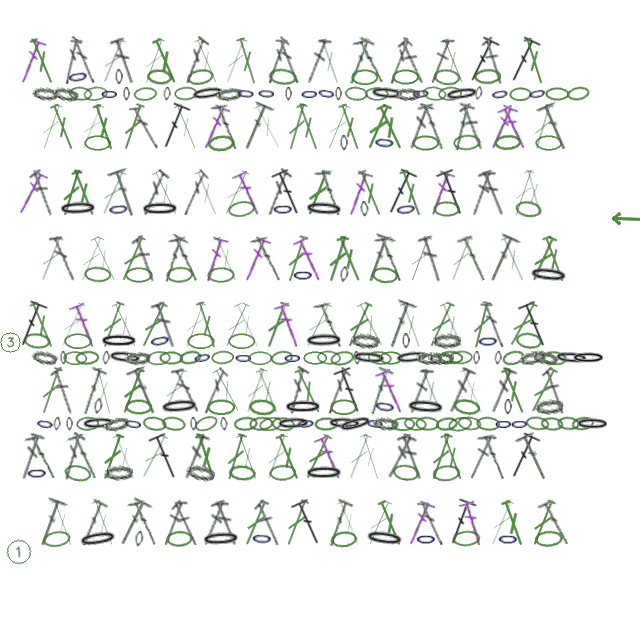chain: (77, 528, 119, 550), (364, 528, 405, 549), (528, 265, 569, 285), (337, 413, 374, 435), (159, 397, 200, 416), (405, 398, 446, 416), (304, 200, 344, 218), (201, 530, 241, 548), (190, 84, 226, 103), (58, 200, 98, 217), (304, 332, 344, 349), (185, 462, 216, 483), (444, 85, 480, 103), (140, 201, 180, 217), (99, 333, 139, 349), (283, 399, 323, 415), (304, 465, 344, 481), (369, 85, 405, 102), (107, 349, 143, 366), (394, 349, 430, 366), (42, 529, 72, 549), (518, 347, 546, 368), (186, 67, 215, 87), (227, 199, 256, 219), (514, 199, 543, 219), (452, 397, 481, 417), (63, 463, 92, 483), (351, 350, 387, 366), (534, 397, 564, 416), (193, 413, 220, 434), (554, 350, 589, 366), (102, 414, 130, 434), (268, 67, 297, 86), (515, 331, 543, 350), (531, 348, 559, 367), (392, 463, 420, 482), (81, 416, 116, 431), (276, 416, 311, 431), (327, 416, 362, 431), (432, 464, 461, 482), (350, 332, 380, 349), (433, 68, 461, 86), (215, 85, 243, 103), (207, 134, 235, 152), (371, 266, 399, 284), (23, 332, 51, 350), (248, 398, 276, 416), (228, 464, 256, 482), (330, 530, 358, 548), (432, 332, 461, 349), (104, 464, 133, 481), (452, 530, 481, 547), (534, 530, 563, 547), (571, 351, 606, 365), (575, 417, 610, 431), (146, 68, 173, 86), (52, 85, 79, 103), (453, 134, 481, 151), (501, 348, 526, 367), (329, 349, 355, 367), (258, 415, 284, 433), (447, 415, 473, 433), (474, 68, 501, 85), (494, 134, 521, 151), (84, 266, 111, 283), (166, 266, 193, 283), (31, 349, 58, 366), (269, 464, 296, 481), (166, 530, 193, 547), (66, 67, 90, 86), (148, 331, 172, 350), (373, 397, 397, 416), (125, 267, 153, 283), (207, 267, 235, 283), (64, 333, 92, 349), (187, 333, 215, 349), (207, 399, 235, 415), (351, 69, 378, 85), (392, 69, 419, 85), (84, 135, 111, 151), (412, 135, 439, 151), (535, 135, 562, 151), (394, 200, 418, 218), (433, 201, 460, 217), (228, 333, 255, 349), (124, 350, 151, 366), (125, 399, 152, 415), (330, 399, 357, 415), (83, 85, 108, 102), (422, 85, 447, 102), (566, 85, 591, 102), (178, 349, 203, 366), (142, 415, 167, 432), (161, 415, 186, 432), (457, 415, 482, 432), (525, 415, 550, 432), (107, 200, 130, 218), (270, 349, 294, 366), (571, 415, 595, 432), (372, 416, 399, 431), (133, 86, 158, 102), (146, 350, 171, 366), (367, 350, 392, 366), (542, 350, 567, 366), (373, 134, 396, 151), (32, 86, 58, 101), (271, 416, 295, 432), (403, 416, 427, 432), (435, 416, 459, 432), (540, 416, 564, 432), (68, 86, 93, 101), (233, 416, 258, 431), (251, 530, 273, 547), (394, 87, 420, 101), (416, 351, 442, 365), (428, 351, 454, 365), (174, 86, 198, 101), (344, 86, 368, 101), (438, 86, 462, 101), (75, 350, 99, 365), (317, 350, 341, 365), (439, 350, 463, 365), (449, 350, 473, 365), (249, 416, 273, 431), (415, 416, 439, 431), (476, 416, 500, 431), (316, 85, 337, 102), (527, 85, 548, 102), (192, 349, 213, 366), (272, 201, 294, 217), (292, 267, 314, 283), (477, 333, 499, 349), (26, 465, 48, 481), (415, 531, 437, 547), (497, 531, 519, 547), (211, 350, 234, 365), (76, 416, 99, 431), (557, 416, 580, 431), (365, 87, 389, 101), (545, 87, 569, 101), (63, 351, 87, 365), (159, 351, 183, 365), (248, 351, 272, 365), (303, 351, 327, 365), (379, 351, 403, 365), (123, 416, 144, 432), (314, 417, 338, 431), (391, 417, 415, 431), (509, 87, 532, 101), (490, 86, 510, 102), (35, 416, 55, 432), (236, 86, 256, 101), (411, 86, 431, 101), (296, 416, 316, 431), (365, 416, 385, 431), (257, 86, 276, 101), (100, 87, 119, 101), (300, 87, 319, 101), (234, 351, 253, 365), (283, 351, 302, 365), (494, 417, 513, 431), (510, 417, 529, 431), (339, 266, 349, 283), (93, 398, 103, 415), (134, 531, 144, 547), (360, 201, 369, 217), (474, 86, 483, 101), (115, 69, 123, 85), (340, 135, 348, 151), (402, 333, 410, 349), (504, 399, 512, 415), (163, 87, 171, 101), (102, 351, 110, 365), (353, 351, 361, 365), (494, 351, 502, 365), (53, 417, 61, 431), (220, 417, 228, 431), (123, 87, 130, 101), (285, 87, 292, 101), (335, 87, 342, 101), (60, 351, 67, 365), (473, 351, 480, 365), (66, 417, 73, 431), (190, 417, 197, 431)
double: (113, 497, 153, 549), (515, 431, 554, 483), (237, 101, 275, 153), (536, 101, 574, 153), (483, 233, 521, 285), (463, 35, 501, 86), (504, 35, 542, 86), (381, 167, 419, 218), (504, 431, 542, 482), (126, 365, 163, 417), (352, 35, 389, 86), (270, 167, 307, 218), (24, 431, 61, 482), (147, 431, 184, 482), (290, 497, 327, 548), (382, 299, 418, 351), (517, 298, 553, 350), (536, 498, 573, 548), (156, 101, 192, 152), (250, 233, 286, 284), (13, 299, 49, 350), (332, 365, 368, 416), (107, 167, 142, 219), (361, 233, 396, 285), (33, 497, 68, 549), (504, 300, 541, 349), (382, 432, 418, 482), (341, 35, 376, 86), (435, 167, 470, 218), (168, 233, 203, 284), (455, 233, 490, 284), (66, 431, 101, 482), (74, 497, 109, 548), (127, 497, 162, 548), (443, 497, 478, 548), (250, 102, 286, 151), (13, 168, 49, 217), (353, 300, 389, 349), (209, 366, 245, 415), (525, 366, 561, 415), (136, 432, 172, 481), (373, 102, 408, 152), (496, 102, 531, 152), (148, 168, 183, 218), (218, 168, 253, 218), (136, 300, 171, 350), (230, 300, 265, 350), (300, 300, 335, 350), (291, 366, 326, 416), (300, 432, 335, 482), (313, 299, 347, 350), (485, 102, 519, 152), (96, 168, 130, 218), (231, 168, 265, 218), (87, 234, 121, 284), (292, 234, 326, 284), (526, 234, 560, 284), (55, 300, 89, 350), (108, 300, 142, 350), (219, 300, 253, 350), (342, 300, 376, 350), (424, 300, 458, 350), (157, 366, 191, 416), (374, 366, 408, 416), (210, 101, 243, 152), (157, 233, 190, 284), (374, 233, 407, 284), (75, 365, 108, 416), (362, 365, 395, 416), (477, 431, 510, 482), (321, 497, 354, 548), (26, 36, 59, 86), (149, 36, 182, 86), (190, 36, 223, 86), (198, 102, 231, 152), (321, 102, 354, 152), (362, 102, 395, 152), (354, 168, 387, 218), (477, 168, 510, 218), (75, 234, 108, 284), (116, 234, 149, 284), (210, 234, 243, 284), (239, 234, 272, 284), (333, 234, 366, 284), (497, 234, 530, 284), (26, 300, 59, 350), (436, 300, 469, 350), (444, 366, 477, 416), (456, 366, 489, 416), (272, 432, 305, 482), (313, 432, 346, 482), (210, 498, 243, 548), (239, 498, 272, 548), (333, 498, 366, 548), (362, 498, 395, 548), (374, 498, 407, 548), (403, 498, 436, 548), (485, 498, 518, 548), (416, 101, 448, 152), (314, 167, 346, 218), (15, 36, 47, 86), (97, 36, 129, 86), (437, 36, 469, 86), (47, 102, 79, 152), (76, 102, 108, 152), (170, 102, 202, 152), (68, 168, 100, 218), (191, 168, 223, 218), (302, 168, 334, 218), (35, 234, 67, 284), (445, 234, 477, 284), (68, 300, 100, 350), (252, 366, 284, 416), (416, 366, 448, 416), (486, 366, 518, 416), (498, 366, 530, 416), (109, 432, 141, 482), (179, 432, 211, 482), (343, 432, 375, 482), (396, 432, 428, 482), (527, 498, 559, 548), (137, 169, 170, 217), (169, 499, 202, 547), (261, 168, 293, 217), (109, 36, 140, 86), (138, 36, 169, 86), (220, 36, 251, 86), (293, 102, 324, 152), (404, 102, 435, 152), (343, 168, 374, 218), (396, 168, 427, 218), (425, 168, 456, 218), (404, 234, 435, 284), (539, 234, 570, 284), (97, 300, 128, 350), (150, 300, 181, 350), (179, 300, 210, 350), (261, 300, 292, 350), (273, 300, 304, 350), (396, 300, 427, 350), (117, 366, 148, 416), (240, 366, 271, 416), (97, 432, 128, 482), (232, 432, 263, 482), (261, 432, 292, 482), (437, 432, 468, 482), (47, 498, 78, 548), (88, 498, 119, 548), (281, 498, 312, 548), (498, 498, 529, 548), (396, 37, 428, 85), (129, 103, 161, 151), (252, 499, 284, 547), (446, 101, 476, 152), (179, 36, 210, 85), (466, 432, 497, 481), (315, 36, 345, 86), (36, 102, 66, 152), (89, 102, 119, 152), (118, 102, 148, 152), (335, 102, 365, 152), (508, 168, 538, 218), (417, 234, 447, 284), (192, 300, 222, 350), (36, 366, 66, 416), (16, 432, 46, 482), (426, 432, 456, 482), (179, 169, 210, 217), (199, 367, 230, 415), (171, 366, 201, 415), (233, 36, 262, 86), (520, 36, 549, 86), (57, 168, 86, 218), (200, 234, 229, 284), (282, 234, 311, 284), (323, 234, 352, 284), (192, 432, 221, 482), (221, 432, 250, 482), (356, 432, 385, 482), (458, 498, 487, 548), (303, 36, 332, 85), (458, 102, 487, 151), (28, 168, 57, 217), (130, 234, 159, 283), (540, 366, 569, 415), (200, 498, 229, 547), (283, 102, 311, 152), (529, 102, 557, 152), (385, 37, 414, 85), (323, 367, 352, 415), (417, 499, 446, 547), (70, 36, 98, 85), (263, 36, 291, 85), (427, 36, 455, 85), (468, 168, 496, 217), (49, 234, 77, 283), (49, 366, 77, 415), (406, 366, 434, 415), (58, 432, 86, 481), (160, 498, 188, 547), (521, 168, 548, 218), (468, 300, 495, 350), (90, 366, 117, 416), (275, 36, 302, 85), (480, 36, 507, 85), (480, 300, 507, 349), (283, 366, 310, 415), (60, 36, 83, 85)
noise: (4, 537, 33, 566), (0, 330, 22, 354), (609, 210, 640, 227)
